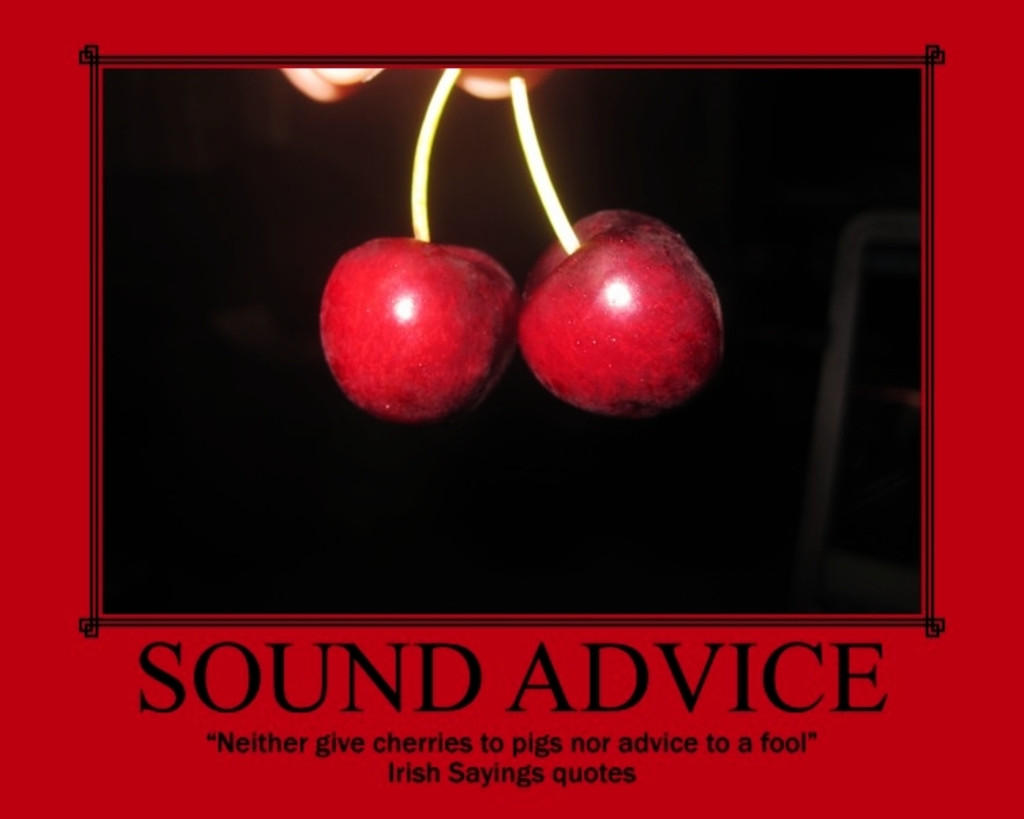Apple: (512, 73, 724, 414), (319, 64, 518, 420)
